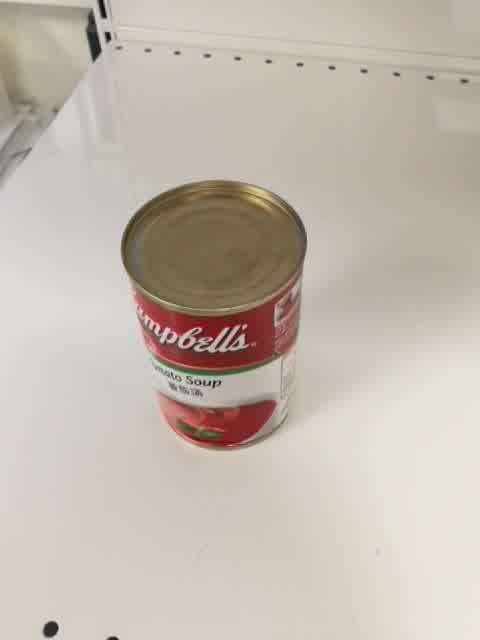tomatosoup: (119, 177, 308, 453)
